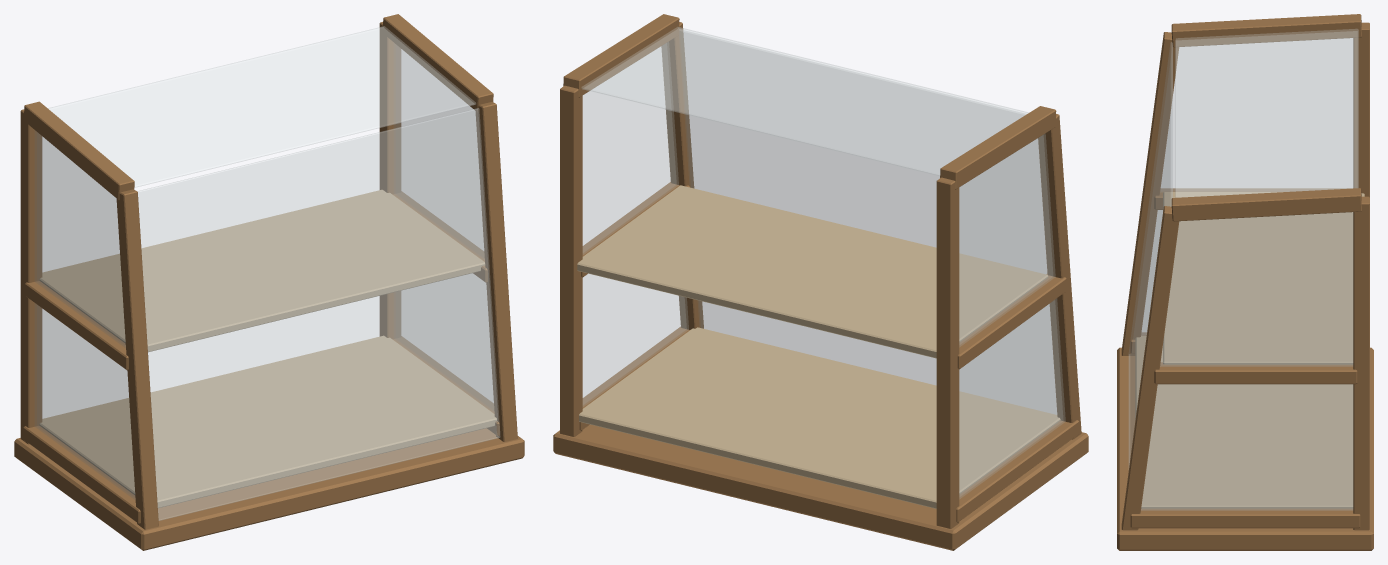
3 views of the same model, side by side, from view 1: azimuth 30°, elevation 25°; view 2: azimuth 150°, elevation 25°; view 3: azimuth 270°, elevation 25° (orthographic). The views are drawn at different scales.
Parts seen in each view (by area): view 1: Inclined customer guard, Lower display shelf, Upper display shelf, Clear top cover, Side protective pane -0.337, Side protective pane 0.337, Low countertop plinth, Customer inclined front post -0.337, Customer inclined front post 0.337, Open rear post -0.337, Open rear post 0.337, Sloping top side header -0.337 (+5 smaller); view 2: Inclined customer guard, Lower display shelf, Upper display shelf, Clear top cover, Side protective pane -0.337, Side protective pane 0.337, Low countertop plinth, Open rear post -0.337, Open rear post 0.337, Customer inclined front post -0.337, Customer inclined front post 0.337, Sloping top side header -0.337 (+5 smaller); view 3: Side protective pane 0.337, Clear top cover, Side protective pane -0.337, Upper display shelf, Lower display shelf, Low countertop plinth, Customer inclined front post 0.337, Customer inclined front post -0.337, Open rear post 0.337, Inclined customer guard, Shelf end bearer 0.337 0.052, Sloping top side header -0.337 (+4 smaller).
Part boxes in pixels (<box>): Inclined customer guard: <box>137,108,499,520</box>; Lower display shelf: <box>39,335,496,507</box>; Upper display shelf: <box>39,190,485,352</box>; Clear top cover: <box>48,26,475,187</box>; Side protective pane -0.337: <box>35,131,135,499</box>; Side protective pane 0.337: <box>394,44,493,410</box>; Low countertop plinth: <box>14,428,524,550</box>; Customer inclined front post -0.337: <box>116,189,158,529</box>; Customer inclined front post 0.337: <box>475,102,517,441</box>; Open rear post -0.337: <box>20,109,42,444</box>; Open rear post 0.337: <box>379,22,401,339</box>; Sloping top side header -0.337: <box>24,101,134,199</box>; Inclined customer guard: <box>680,29,1056,414</box>; Lower display shelf: <box>579,327,1060,508</box>; Upper display shelf: <box>577,185,1048,358</box>; Clear top cover: <box>582,27,1028,175</box>; Side protective pane -0.337: <box>959,134,1065,498</box>; Side protective pane 0.337: <box>583,43,688,406</box>; Low countertop plinth: <box>553,424,1088,550</box>; Open rear post -0.337: <box>936,177,959,528</box>; Open rear post 0.337: <box>560,85,582,436</box>; Customer inclined front post -0.337: <box>1038,114,1081,439</box>; Customer inclined front post 0.337: <box>661,22,703,329</box>; Sloping top side header -0.337: <box>940,106,1056,189</box>; Side protective pane 0.337: <box>1141,212,1352,510</box>; Clear top cover: <box>1175,29,1358,197</box>; Side protective pane -0.337: <box>1141,38,1352,335</box>; Upper display shelf: <box>1163,192,1364,364</box>; Lower display shelf: <box>1135,336,1353,508</box>; Low countertop plinth: <box>1117,347,1373,550</box>; Customer inclined front post 0.337: <box>1121,206,1179,530</box>; Customer inclined front post -0.337: <box>1121,32,1179,355</box>; Open rear post 0.337: <box>1353,196,1369,530</box>; Inclined customer guard: <box>1129,42,1172,465</box>; Shelf end bearer 0.337 0.052: <box>1130,508,1360,528</box>; Sloping top side header -0.337: <box>1171,14,1361,47</box>.
Bounding box in the file's own units: 0.72 × 0.6399 × 0.42.
